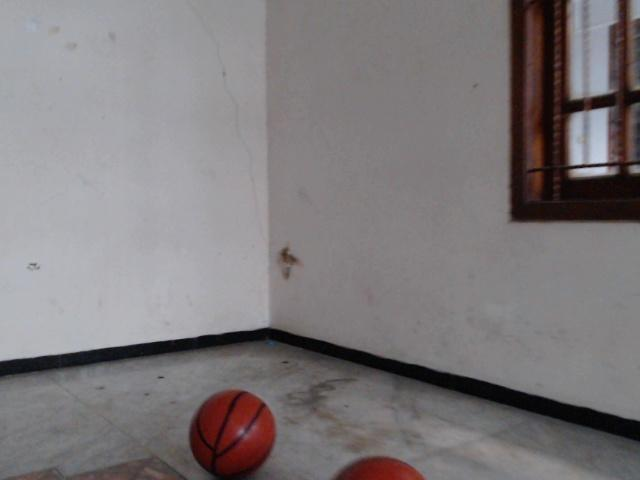Sports-Ball: (187, 396, 277, 480)
